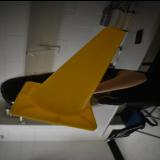cone: (10, 24, 126, 130)
